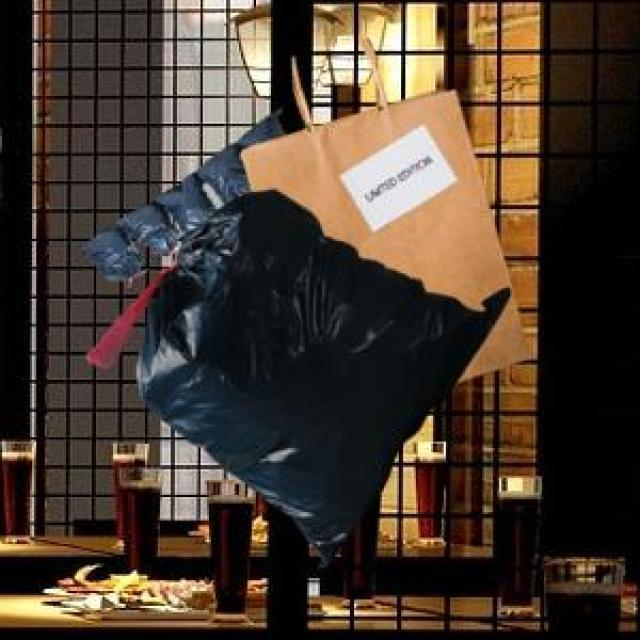miscellaneous trash: (81, 186, 506, 563), (77, 105, 282, 275)
paper: (237, 36, 525, 378)
